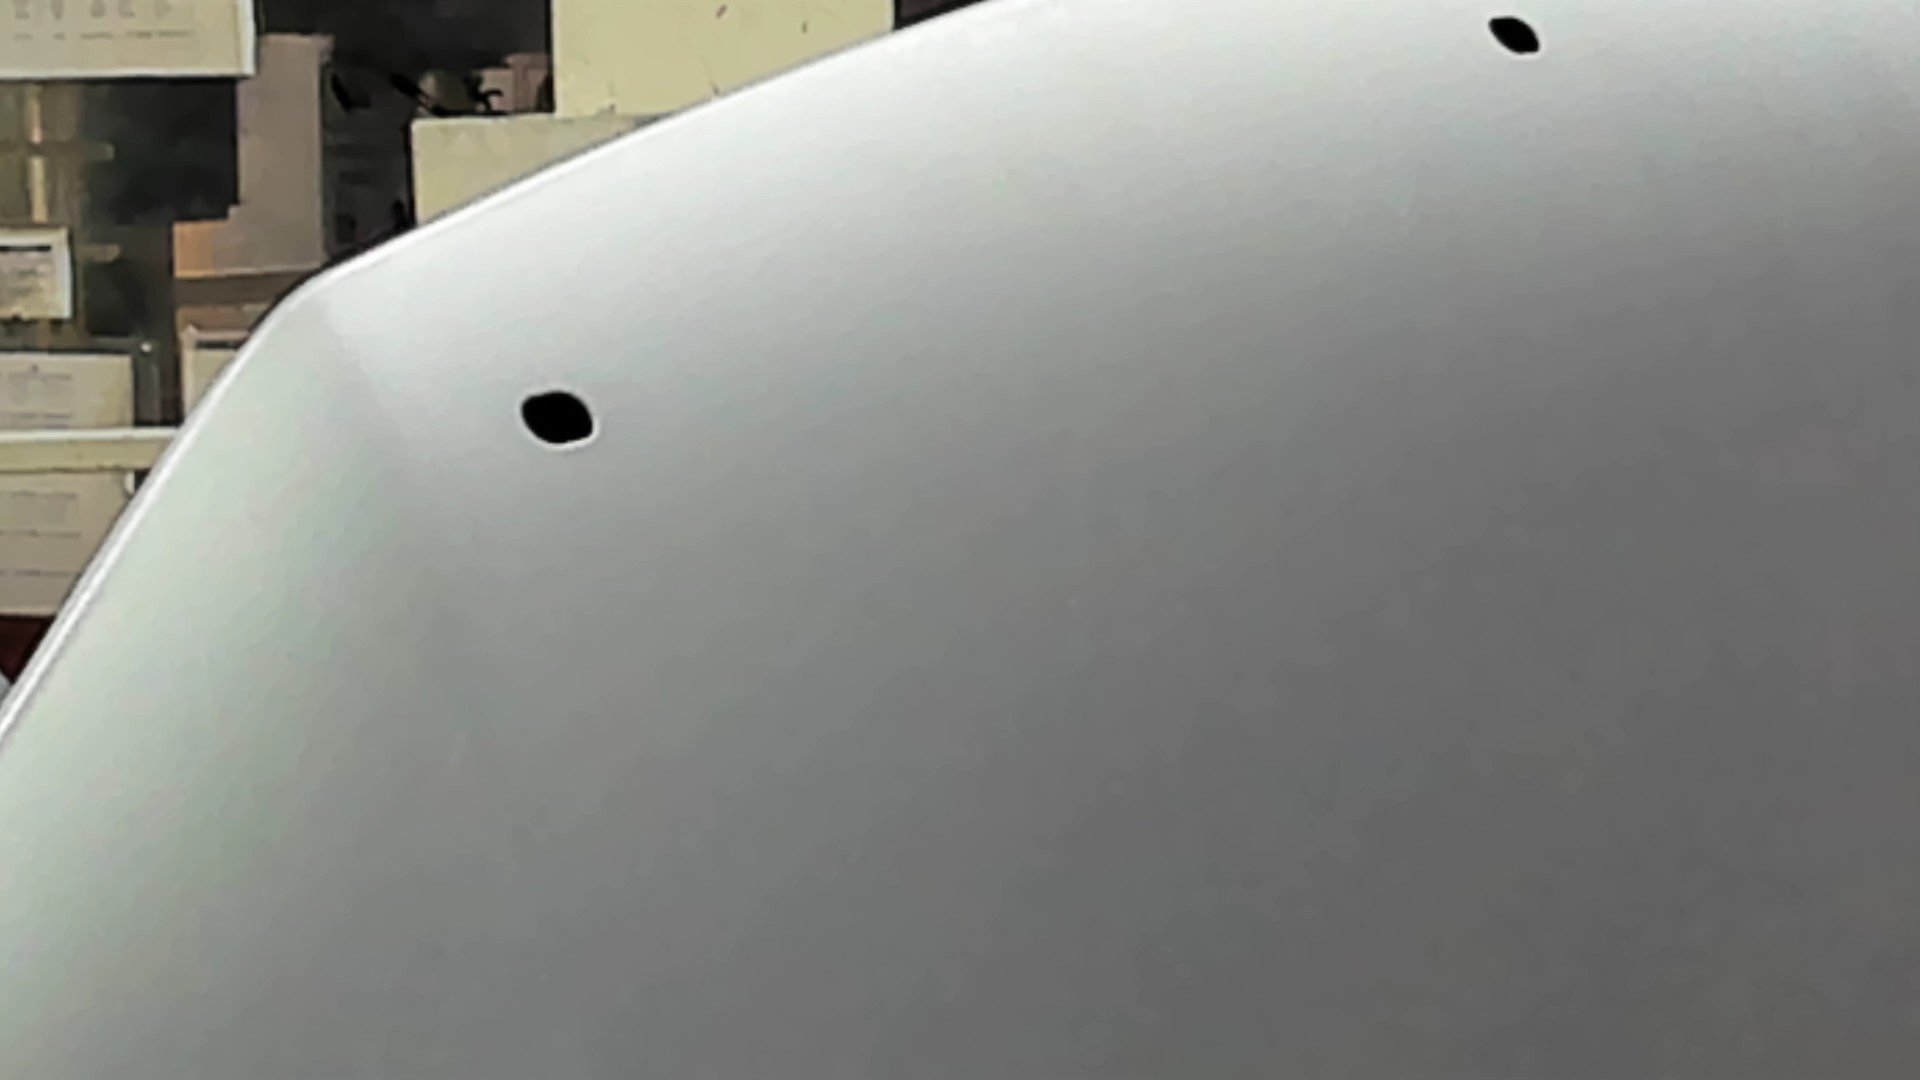amorfo: (512, 385, 609, 451), (1482, 11, 1547, 61)
